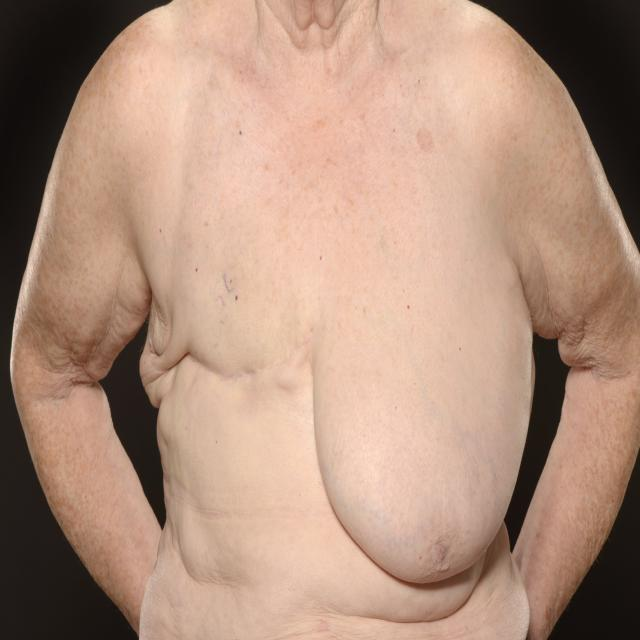wound: (151, 300, 302, 419)
